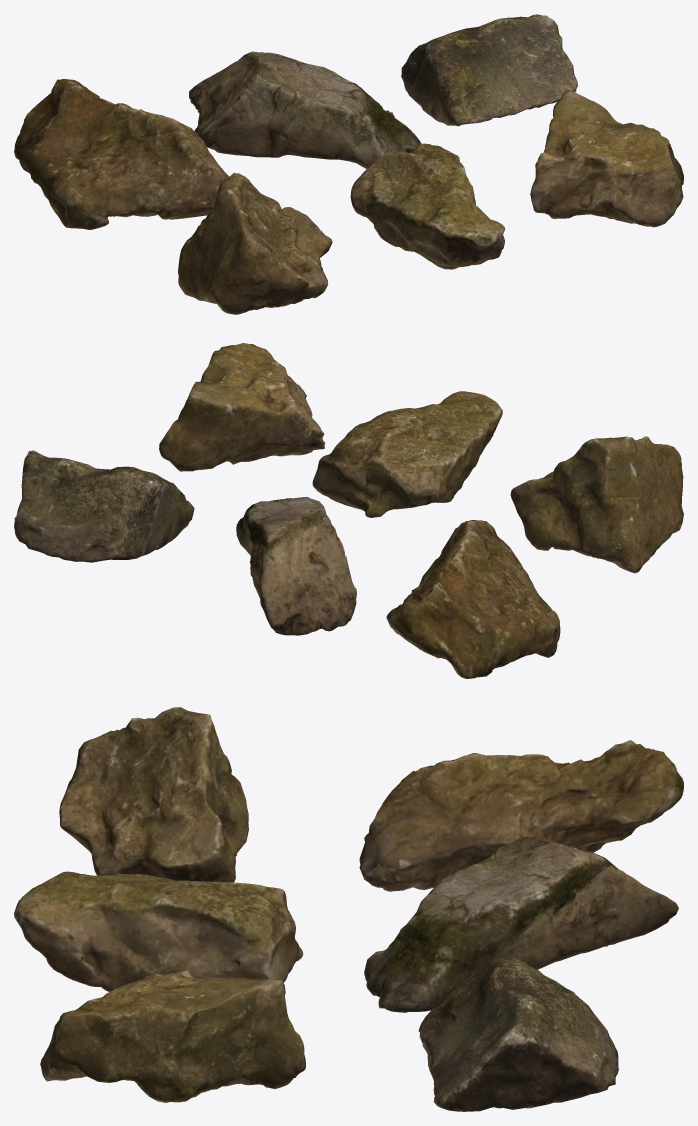
Rendered from moss-rocks.glb.
3 views of the same model, one above another, from view 1: azimuth 30°, elevation 25°; view 2: azimuth 150°, elevation 25°; view 3: azimuth 270°, elevation 25° (orthographic). The views are drawn at different scales.
Parts seen in each view (by area): view 1: rock_moss_set_01_rock01, rock_moss_set_01_rock02, rock_moss_set_01_rock06, rock_moss_set_01_rock04, rock_moss_set_01_rock03, rock_moss_set_01_rock05; view 2: rock_moss_set_01_rock04, rock_moss_set_01_rock01, rock_moss_set_01_rock05, rock_moss_set_01_rock03, rock_moss_set_01_rock06, rock_moss_set_01_rock02; view 3: rock_moss_set_01_rock01, rock_moss_set_01_rock02, rock_moss_set_01_rock05, rock_moss_set_01_rock06, rock_moss_set_01_rock04, rock_moss_set_01_rock03.
Boxes of the visible parts, bbox=[...] form: rock_moss_set_01_rock01: bbox=[14, 79, 229, 229]; rock_moss_set_01_rock02: bbox=[189, 51, 421, 168]; rock_moss_set_01_rock06: bbox=[530, 89, 683, 227]; rock_moss_set_01_rock04: bbox=[178, 172, 332, 314]; rock_moss_set_01_rock03: bbox=[401, 14, 577, 126]; rock_moss_set_01_rock05: bbox=[350, 143, 504, 269]; rock_moss_set_01_rock04: bbox=[510, 436, 683, 573]; rock_moss_set_01_rock01: bbox=[386, 520, 560, 678]; rock_moss_set_01_rock05: bbox=[312, 391, 502, 517]; rock_moss_set_01_rock03: bbox=[14, 450, 194, 562]; rock_moss_set_01_rock06: bbox=[159, 343, 325, 471]; rock_moss_set_01_rock02: bbox=[236, 497, 356, 635]; rock_moss_set_01_rock01: bbox=[359, 740, 683, 891]; rock_moss_set_01_rock02: bbox=[364, 836, 678, 1012]; rock_moss_set_01_rock05: bbox=[14, 871, 303, 991]; rock_moss_set_01_rock06: bbox=[40, 970, 305, 1102]; rock_moss_set_01_rock04: bbox=[59, 707, 248, 882]; rock_moss_set_01_rock03: bbox=[418, 956, 618, 1111].
Bounding box in the file's own units: 8 × 1.77 × 6.94.
Materials: 1 (1 with a texture image).
